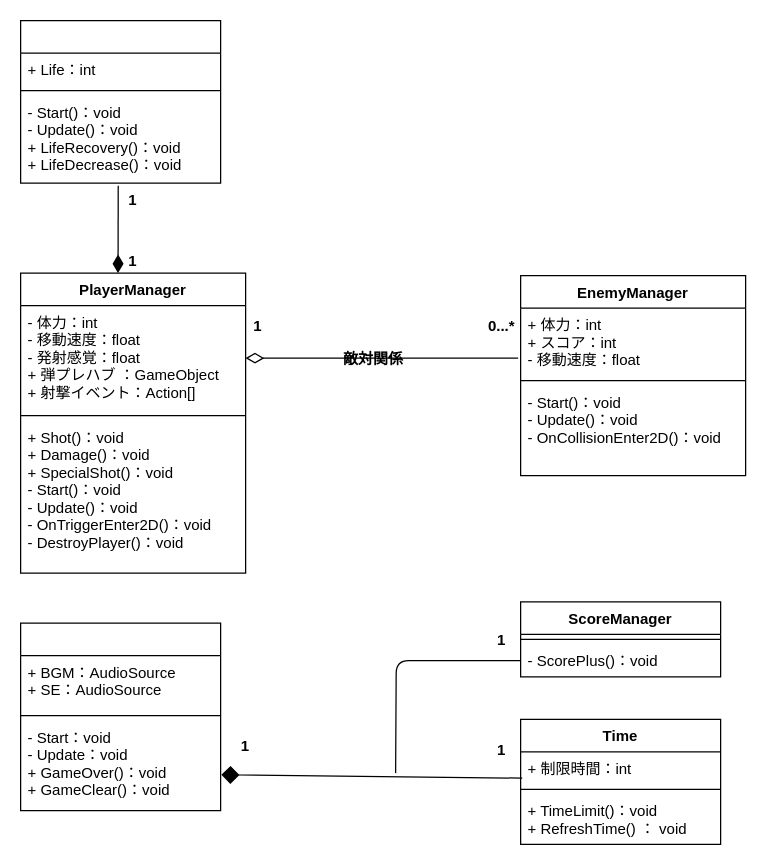
Image size: 766x865. Some labels were removed from this diagram. Each missing label, with the box of its shape:
GameManager: (19, 622, 221, 811)
LifeManager: (19, 19, 221, 183)
